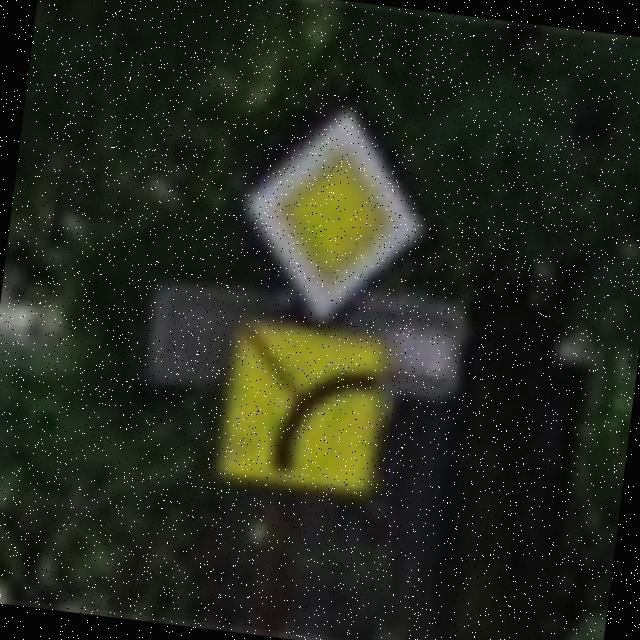Droga z pierwszenstwem: (222, 92, 446, 335)
